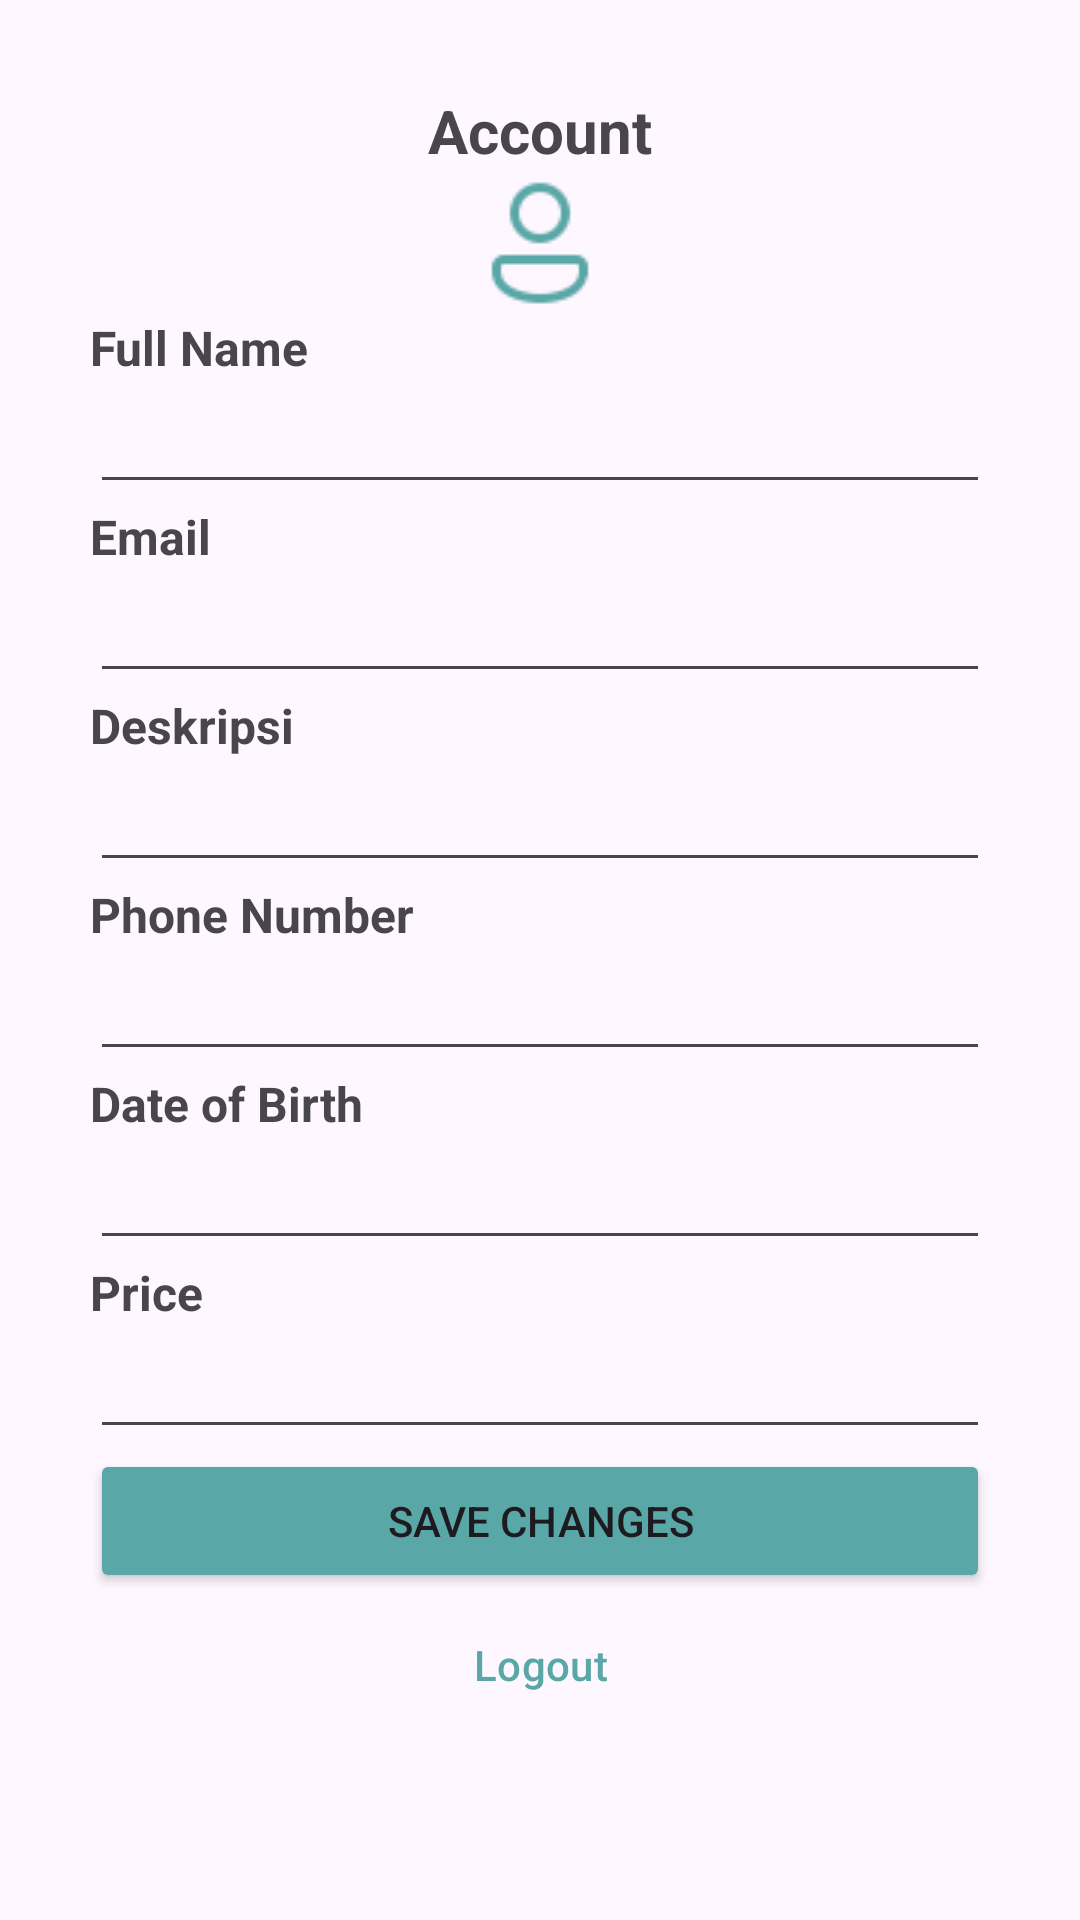

Icons on this 1080*1920 Android screen, each with its box as (x1, y1, x2, y2):
profile: (491, 182, 589, 304)
